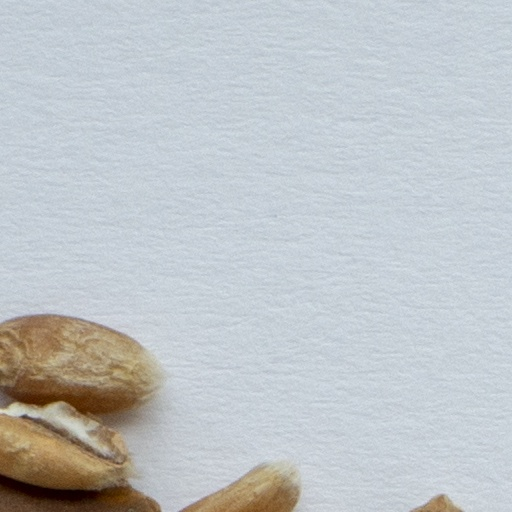Peel-poly: (0, 474, 163, 511)
Wheat-grain-damaged-poly: (0, 401, 144, 492)
